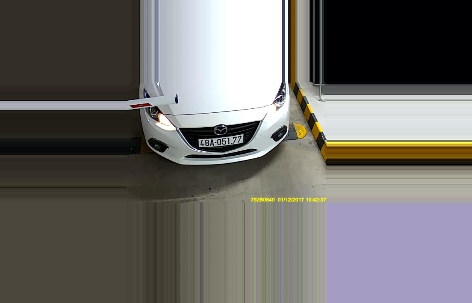plate: (196, 134, 244, 149)
